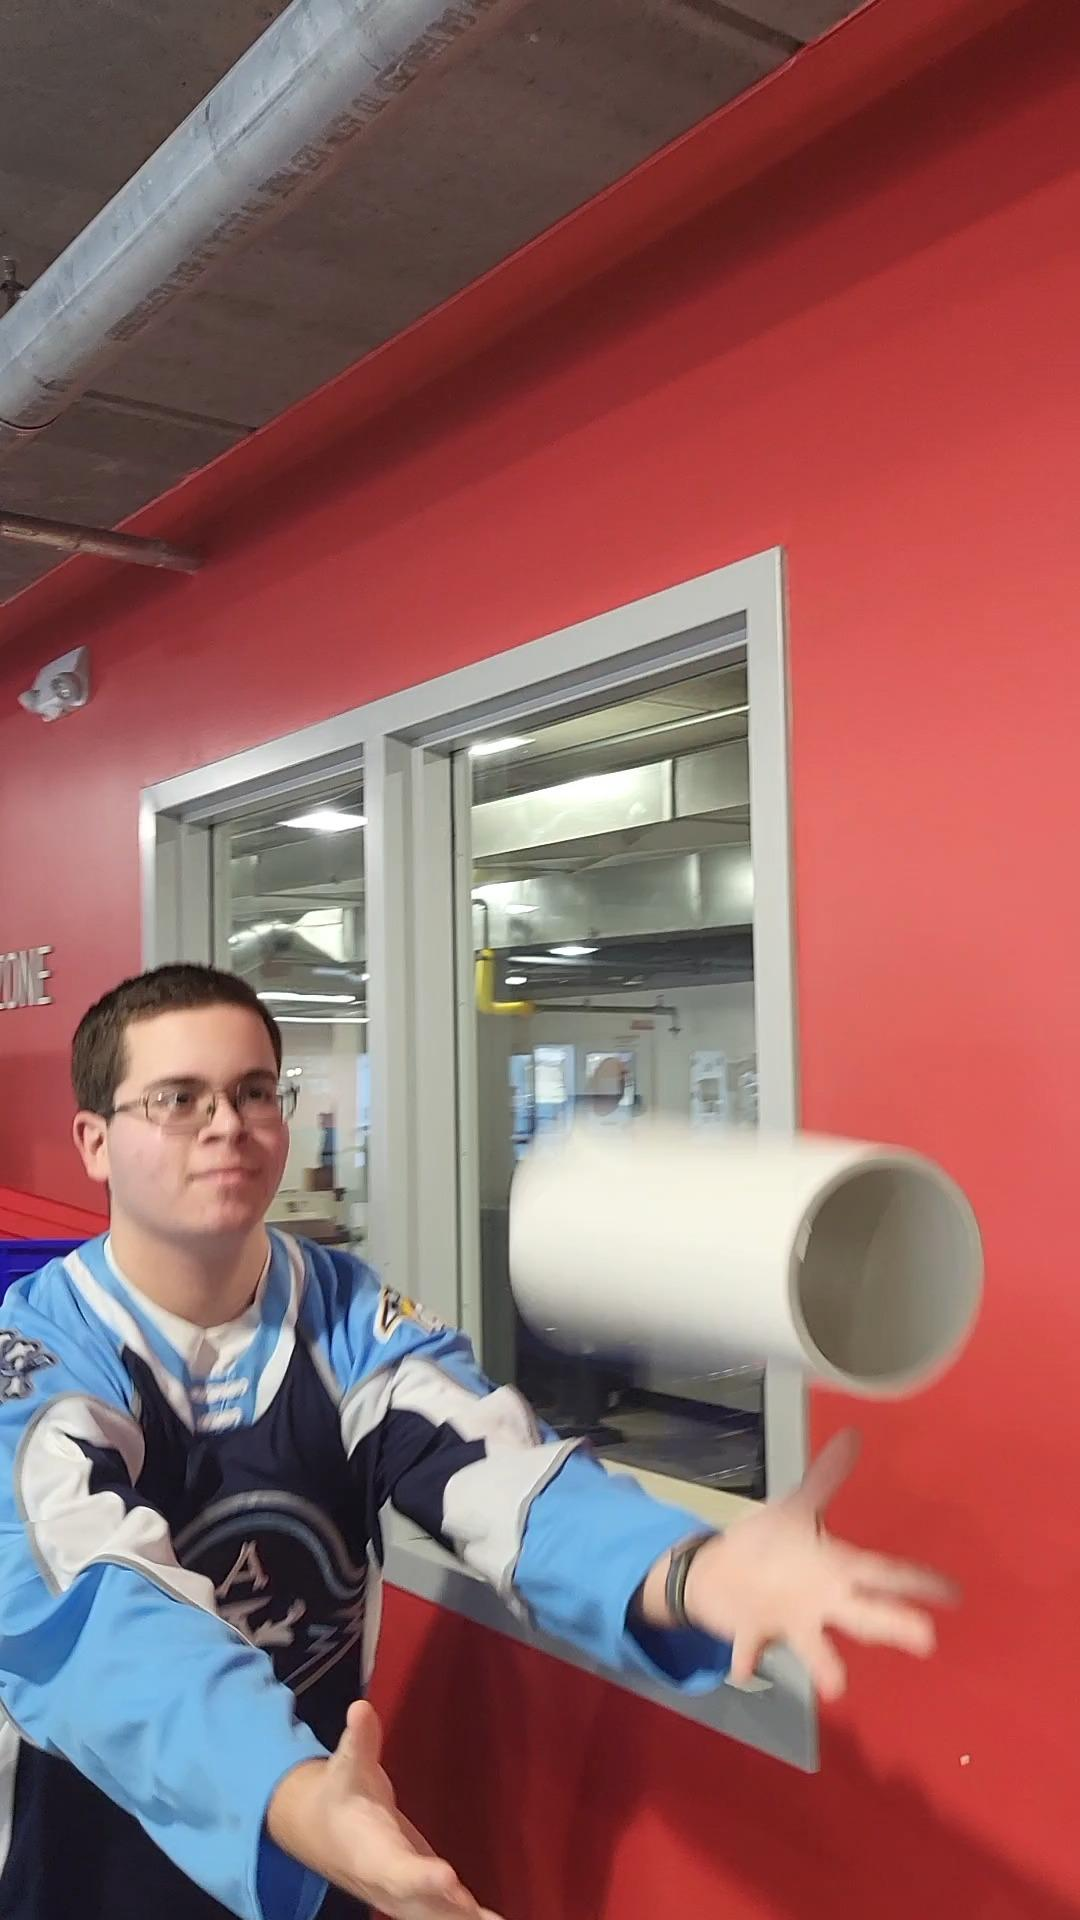coral: (510, 1104, 990, 1400)
